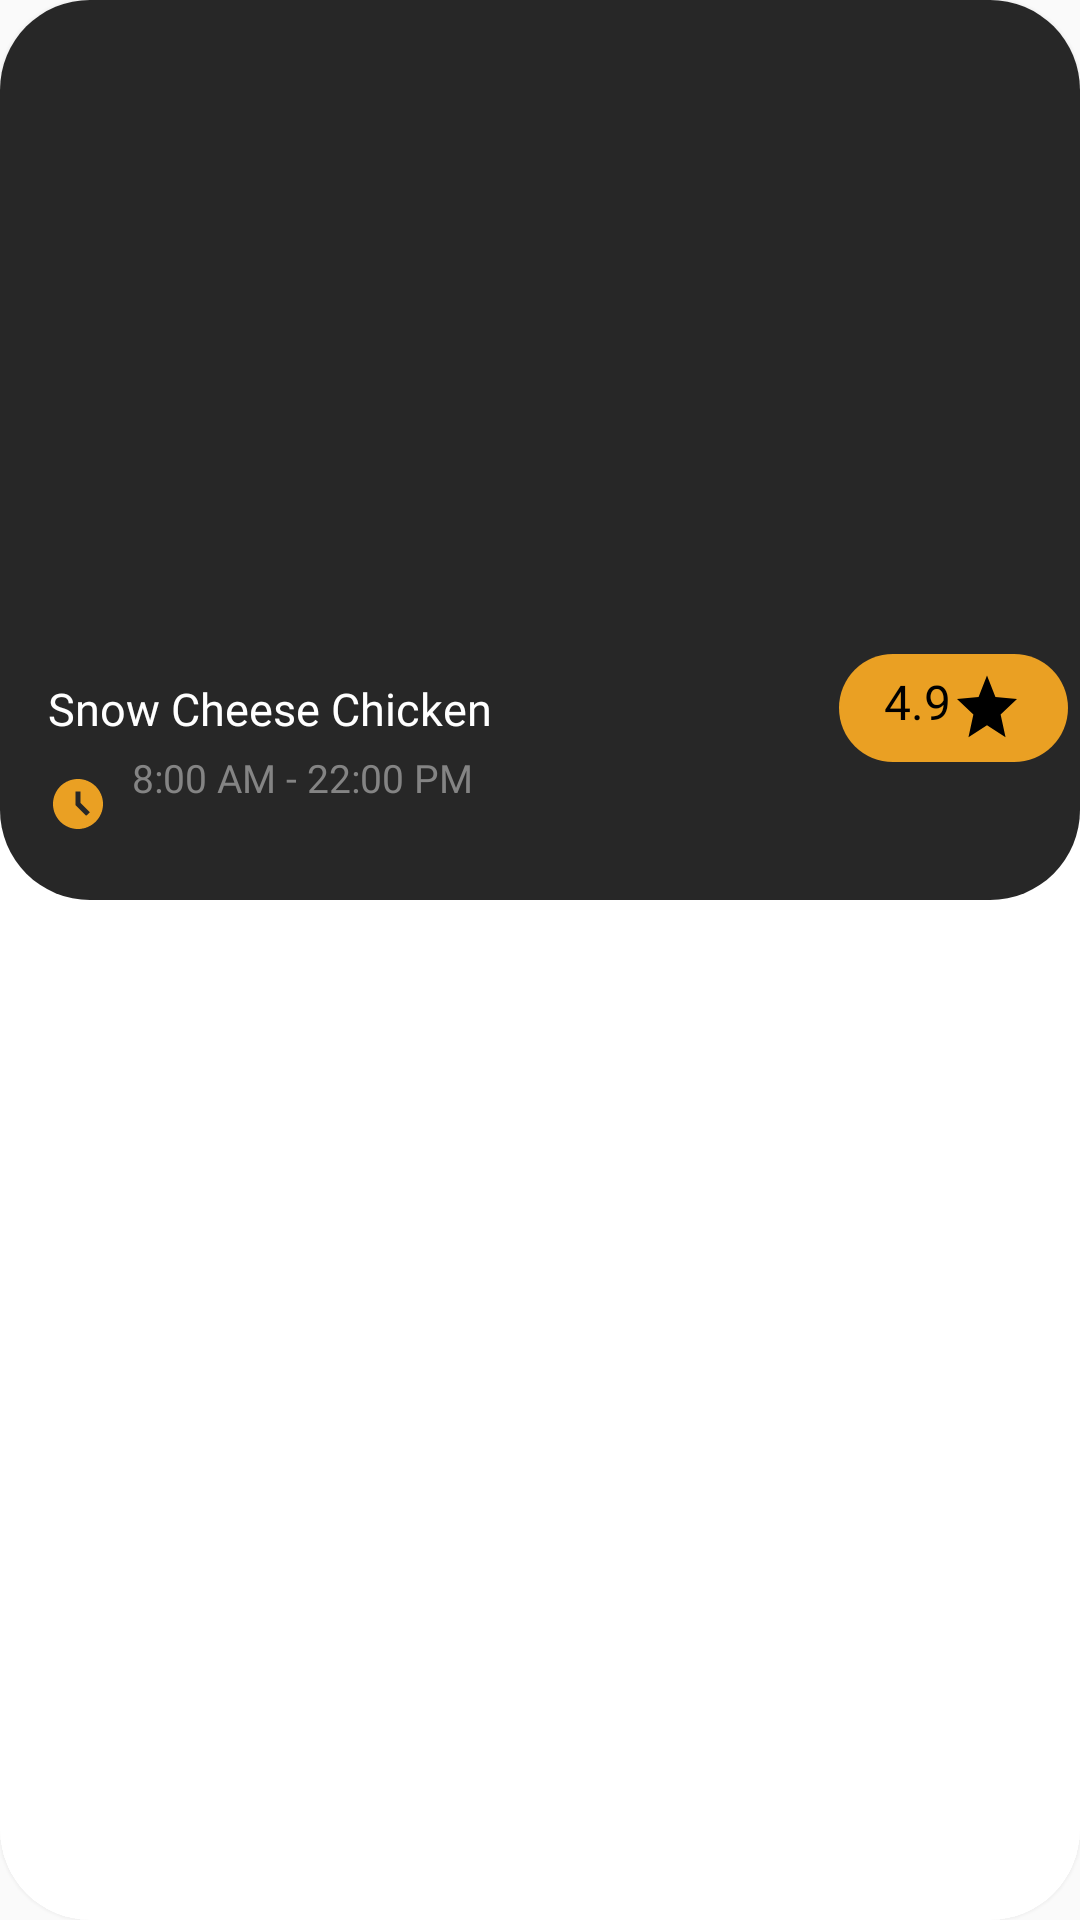

Point at icon controls on the screen. Image size 1080×1920, points as (x,y).
access time: (78,804)
